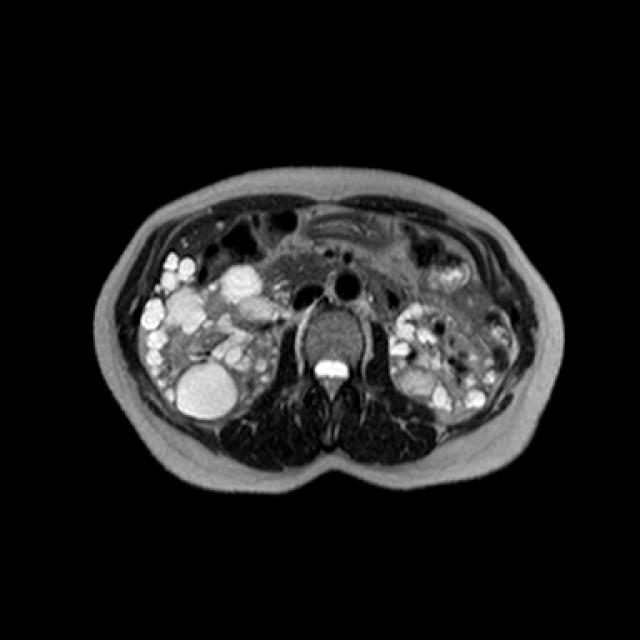sag: (142, 266, 290, 426)
sol: (387, 299, 498, 424)
